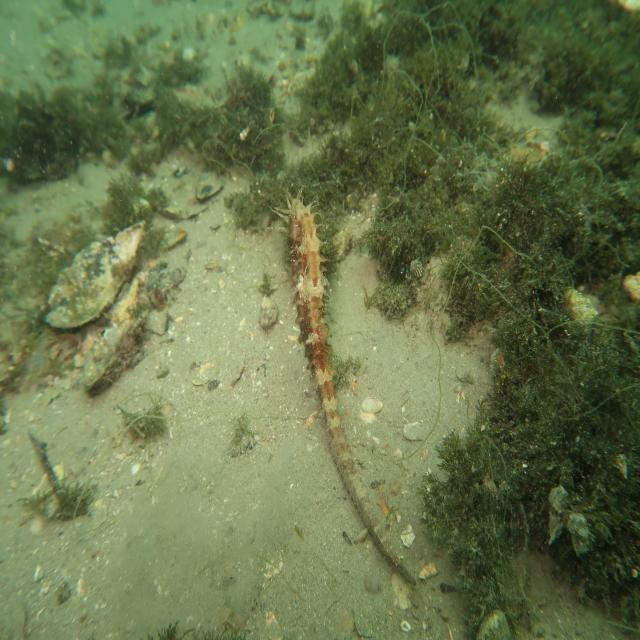Guttu: (280, 197, 334, 399)
